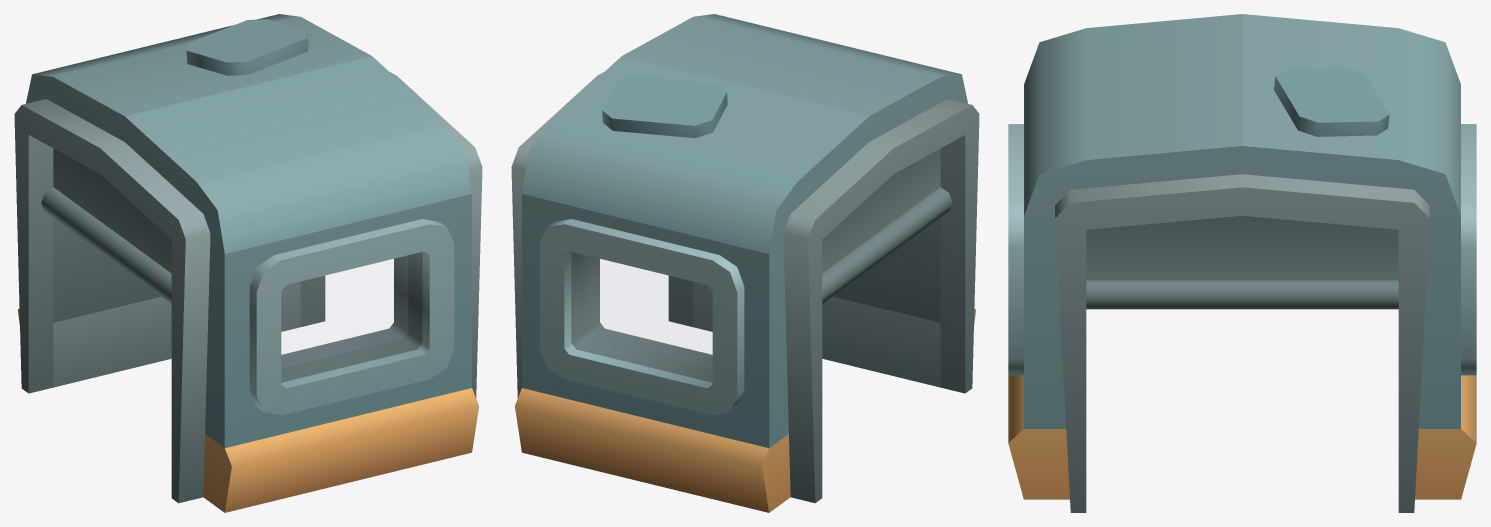
File: machine-window.glb
The picture shows the model from 3 angles, left to right: view 1: azimuth 30°, elevation 25°; view 2: azimuth 150°, elevation 25°; view 3: azimuth 270°, elevation 25°; orthographic projection. The views are drawn at different scales.
Parts seen in each view (by area): view 1: machine-window; view 2: machine-window; view 3: machine-window.
Boxes of the visible parts, x1,y1,x2,y2 form: machine-window: (14,14,482,512); machine-window: (511,14,979,512); machine-window: (1008,14,1476,512).
Bounding box in the file's own units: 1.2 × 1.29 × 1.5.
Materials: 2 (1 with a texture image).
